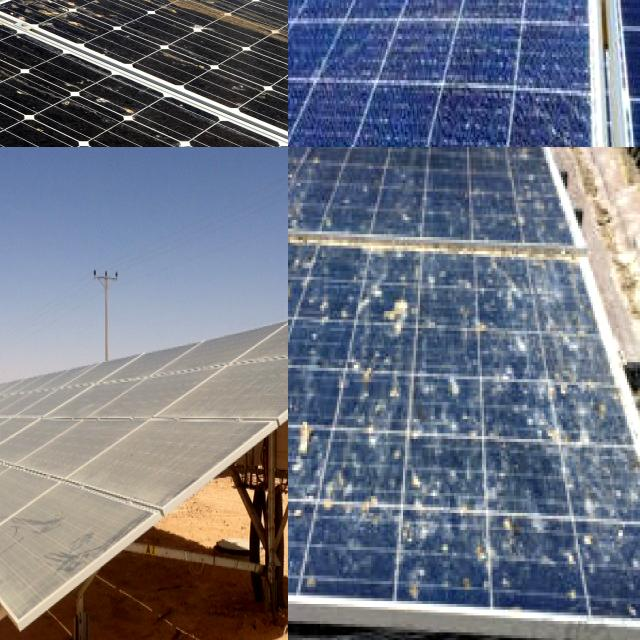bird: (540, 374, 608, 467), (364, 282, 426, 350), (288, 465, 330, 554), (288, 413, 331, 475), (288, 456, 320, 538), (482, 498, 534, 544), (0, 0, 66, 33)
dust: (1, 480, 72, 595), (118, 387, 192, 480), (5, 391, 80, 464), (0, 416, 22, 510), (223, 368, 283, 398)
